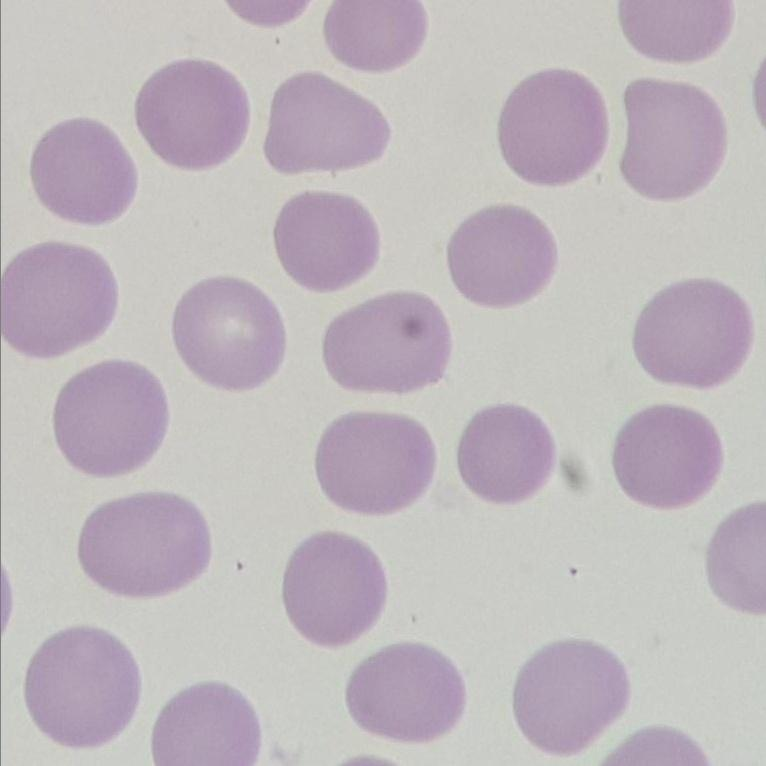Uninfected: (78, 493, 213, 600), (616, 73, 726, 201), (320, 291, 449, 398), (24, 629, 142, 745), (514, 637, 629, 756), (266, 69, 394, 173), (346, 637, 466, 745), (636, 281, 757, 388), (174, 273, 286, 388), (58, 363, 167, 478), (2, 245, 114, 354), (502, 69, 610, 182), (138, 57, 250, 165), (316, 413, 434, 512), (284, 535, 387, 648), (454, 201, 561, 306), (30, 115, 133, 224), (618, 405, 721, 510), (276, 195, 385, 294), (156, 677, 258, 766), (460, 407, 553, 502), (322, 0, 429, 70)
